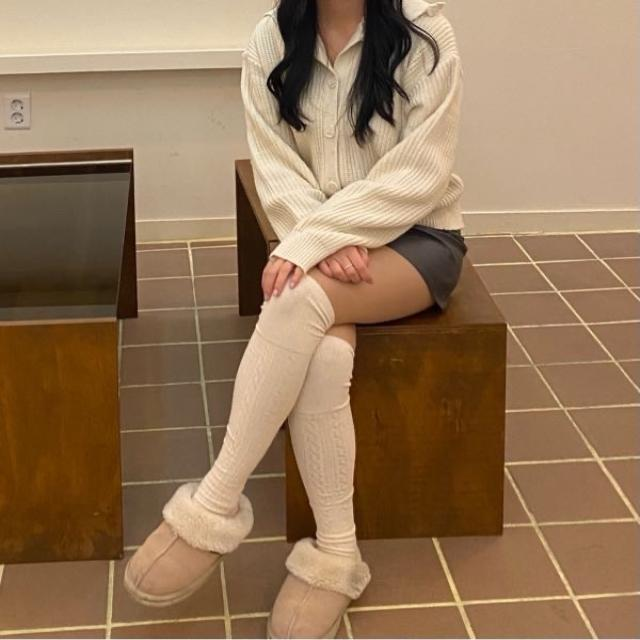cardigan: (236, 0, 466, 281)
skirt: (280, 205, 468, 312)
